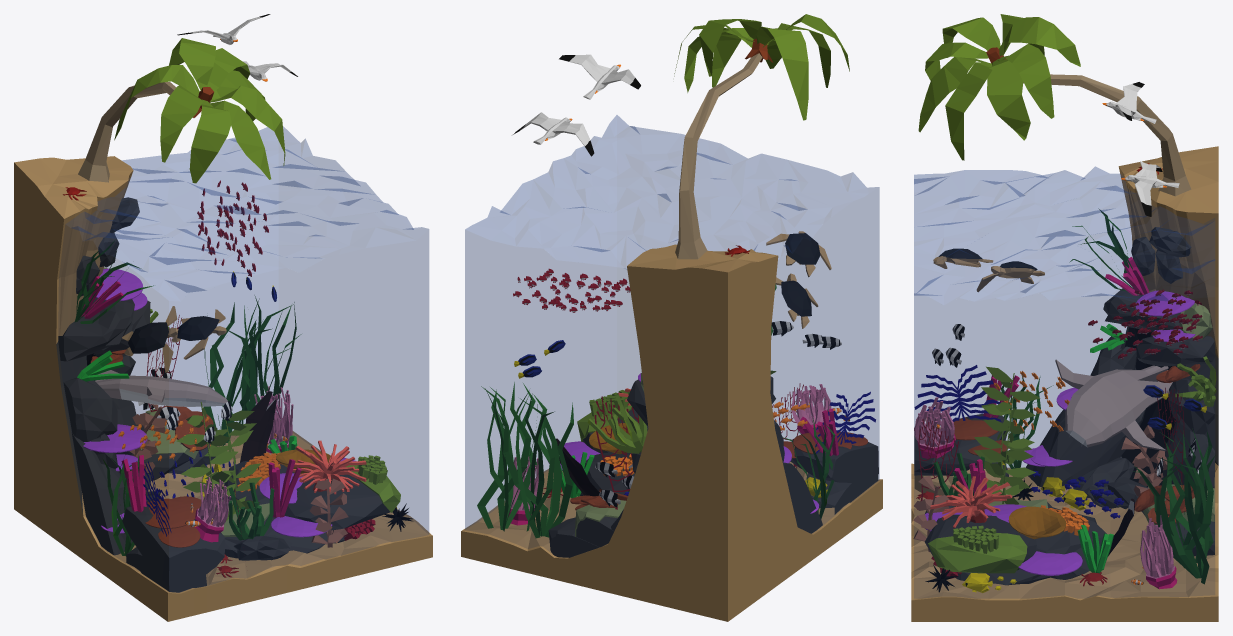
File: 微缩海洋.FBX
The picture shows the model from 3 angles, left to right: view 1: azimuth 30°, elevation 25°; view 2: azimuth 150°, elevation 25°; view 3: azimuth 270°, elevation 25°; orthographic projection.
Parts seen in each view (by area): view 1: huitugou_2001_37, huitugou_2001_03, huitugou_2001_01, huitugou_2001_39, huitugou_2001_24, huitugou_2001_40, huitugou_2001_38, huitugou_2001_36, huitugou_2001_33, huitugou_2001_42, huitugou_2001_27, huitugou_2001_08 (+13 smaller); view 2: huitugou_2001_37, huitugou_2001_03, huitugou_2001_01, huitugou_2001_39, huitugou_2001_24, huitugou_2001_42, huitugou_2001_35, huitugou_2001_34, huitugou_2001_08, huitugou_2001_02, huitugou_2001_33, huitugou_2001_25 (+8 smaller); view 3: huitugou_2001_37, huitugou_2001_03, huitugou_2001_01, huitugou_2001_39, huitugou_2001_36, huitugou_2001_24, huitugou_2001_38, huitugou_2001_40, huitugou_2001_34, huitugou_2001_33, huitugou_2001_27, huitugou_2001_35 (+23 smaller).
Boxes of the visible parts, box(x1,y1,x2,y2) form: huitugou_2001_37: box(58, 126, 428, 592); huitugou_2001_03: box(14, 156, 432, 621); huitugou_2001_01: box(58, 197, 400, 592); huitugou_2001_39: box(78, 38, 285, 183); huitugou_2001_24: box(204, 295, 301, 446); huitugou_2001_40: box(83, 268, 355, 537); huitugou_2001_38: box(176, 402, 261, 521); huitugou_2001_36: box(95, 370, 227, 406); huitugou_2001_33: box(90, 349, 213, 547); huitugou_2001_42: box(122, 306, 226, 372); huitugou_2001_27: box(292, 440, 366, 494); huitugou_2001_08: box(103, 454, 144, 556); huitugou_2001_37: box(465, 115, 879, 557); huitugou_2001_03: box(461, 244, 882, 621); huitugou_2001_01: box(548, 373, 878, 557); huitugou_2001_39: box(674, 14, 849, 259); huitugou_2001_24: box(477, 382, 573, 538); huitugou_2001_42: box(766, 231, 831, 328); huitugou_2001_35: box(513, 54, 640, 156); huitugou_2001_34: box(513, 268, 630, 312); huitugou_2001_08: box(783, 408, 838, 519); huitugou_2001_02: box(587, 391, 647, 453); huitugou_2001_33: box(570, 431, 867, 510); huitugou_2001_25: box(800, 391, 875, 453); huitugou_2001_37: box(914, 166, 1215, 597); huitugou_2001_03: box(911, 146, 1218, 621); huitugou_2001_01: box(914, 227, 1215, 585); huitugou_2001_39: box(918, 14, 1191, 196); huitugou_2001_36: box(1055, 359, 1172, 451); huitugou_2001_24: box(1133, 428, 1215, 584); huitugou_2001_38: box(974, 366, 1040, 504); huitugou_2001_40: box(921, 290, 1195, 575); huitugou_2001_34: box(1088, 289, 1202, 359); huitugou_2001_33: box(953, 364, 1200, 524); huitugou_2001_27: box(930, 476, 1012, 528); huitugou_2001_35: box(1102, 82, 1179, 216).
Bounding box in the file's own units: 1635 × 3015 × 1636.
